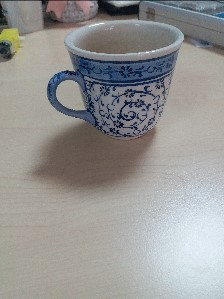cup: (47, 20, 187, 142)
